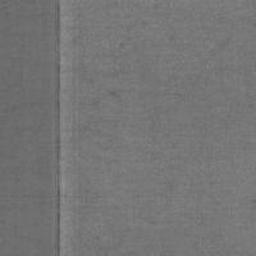Welding line: (55, 0, 61, 256)
